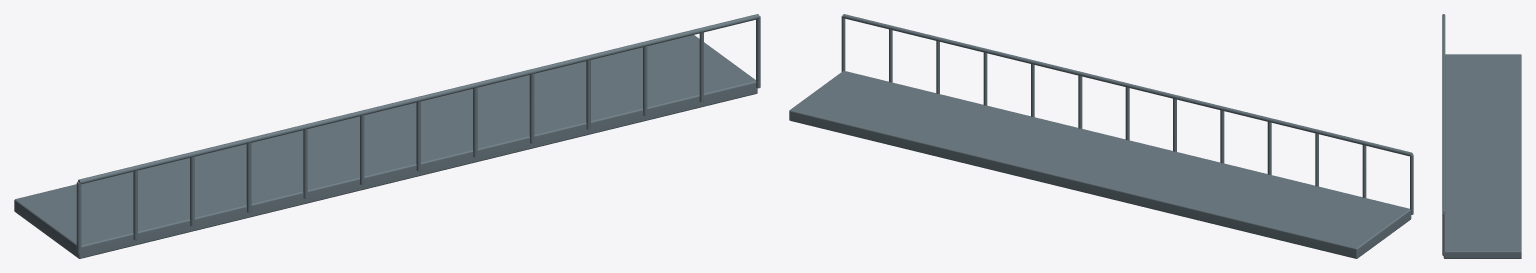
Rendered from skybridge.fbx.
3 views of the same model, side by side, from view 1: azimuth 30°, elevation 25°; view 2: azimuth 150°, elevation 25°; view 3: azimuth 270°, elevation 25° (orthographic). The views are drawn at different scales.
Parts seen in each view (by area): view 1: skybridge; view 2: skybridge; view 3: skybridge.
Part boxes in pixels (x1=…): skybridge: x1=14, y1=14, x2=760, y2=258; skybridge: x1=789, y1=14, x2=1413, y2=258; skybridge: x1=1442, y1=14, x2=1521, y2=258.
Size of the model in its own units: 1207 by 135 by 204.
